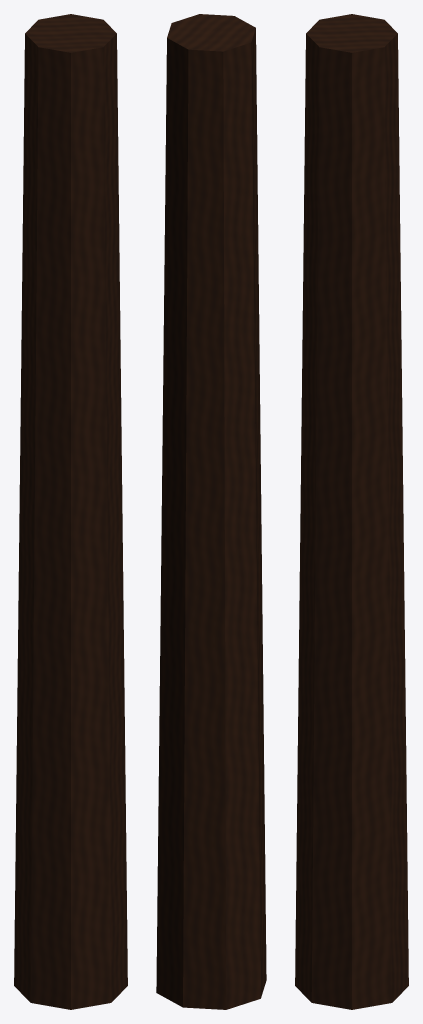
The model's file is module_post_2_4m.glb.
The picture shows the model from 3 angles, left to right: view 1: azimuth 90°, elevation 25°; view 2: azimuth 150°, elevation 25°; view 3: azimuth 270°, elevation 25°; orthographic projection.
Parts seen in each view (by area): view 1: timber_post; view 2: timber_post; view 3: timber_post.
Boxes of the visible parts, bbox=[...] form: timber_post: bbox=[14, 14, 127, 1009]; timber_post: bbox=[156, 14, 266, 1009]; timber_post: bbox=[295, 14, 408, 1009].
Bounding box in the file's own units: 0.26 × 2.4 × 0.26.
Materials: 1 (1 with a texture image).
